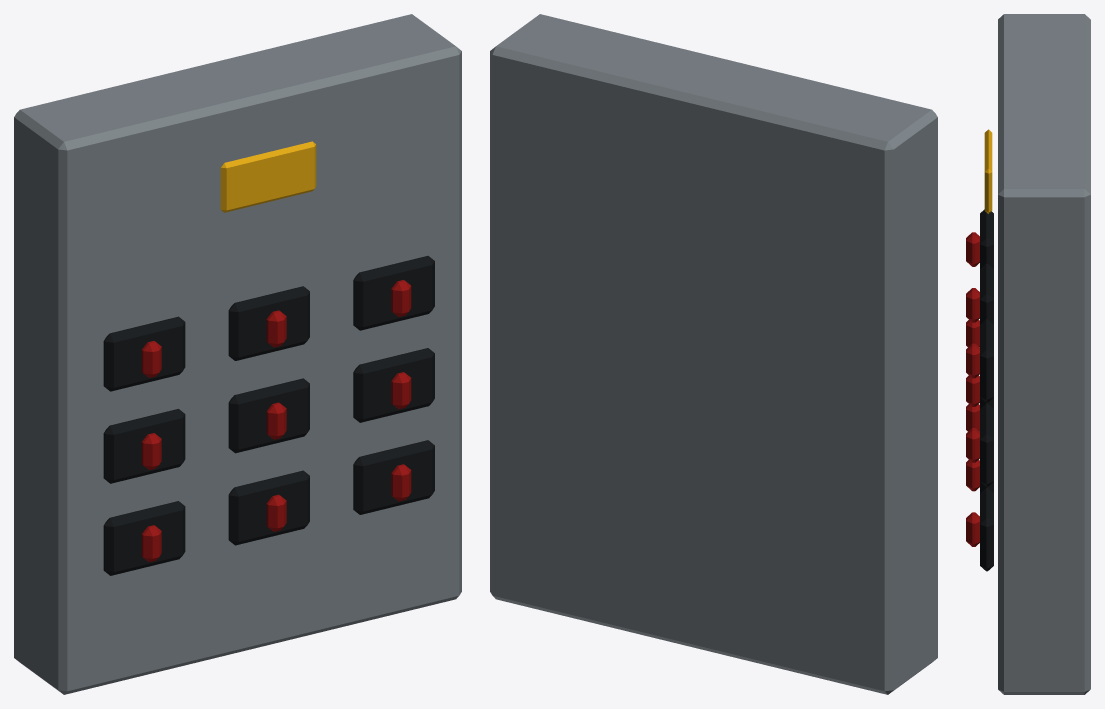
File: ElectricalPanel.fbx
The picture shows the model from 3 angles, left to right: view 1: azimuth 30°, elevation 25°; view 2: azimuth 150°, elevation 25°; view 3: azimuth 270°, elevation 25°; orthographic projection. The views are drawn at different scales.
Parts seen in each view (by area): view 1: ElectricalPanel; view 2: ElectricalPanel; view 3: ElectricalPanel.
Boxes of the visible parts, bbox=[...] form: ElectricalPanel: bbox=[14, 14, 461, 694]; ElectricalPanel: bbox=[490, 14, 937, 694]; ElectricalPanel: bbox=[966, 14, 1090, 694].
Size of the model in its own units: 55 by 72 by 16.1.
Materials: 1 (1 with a texture image).
